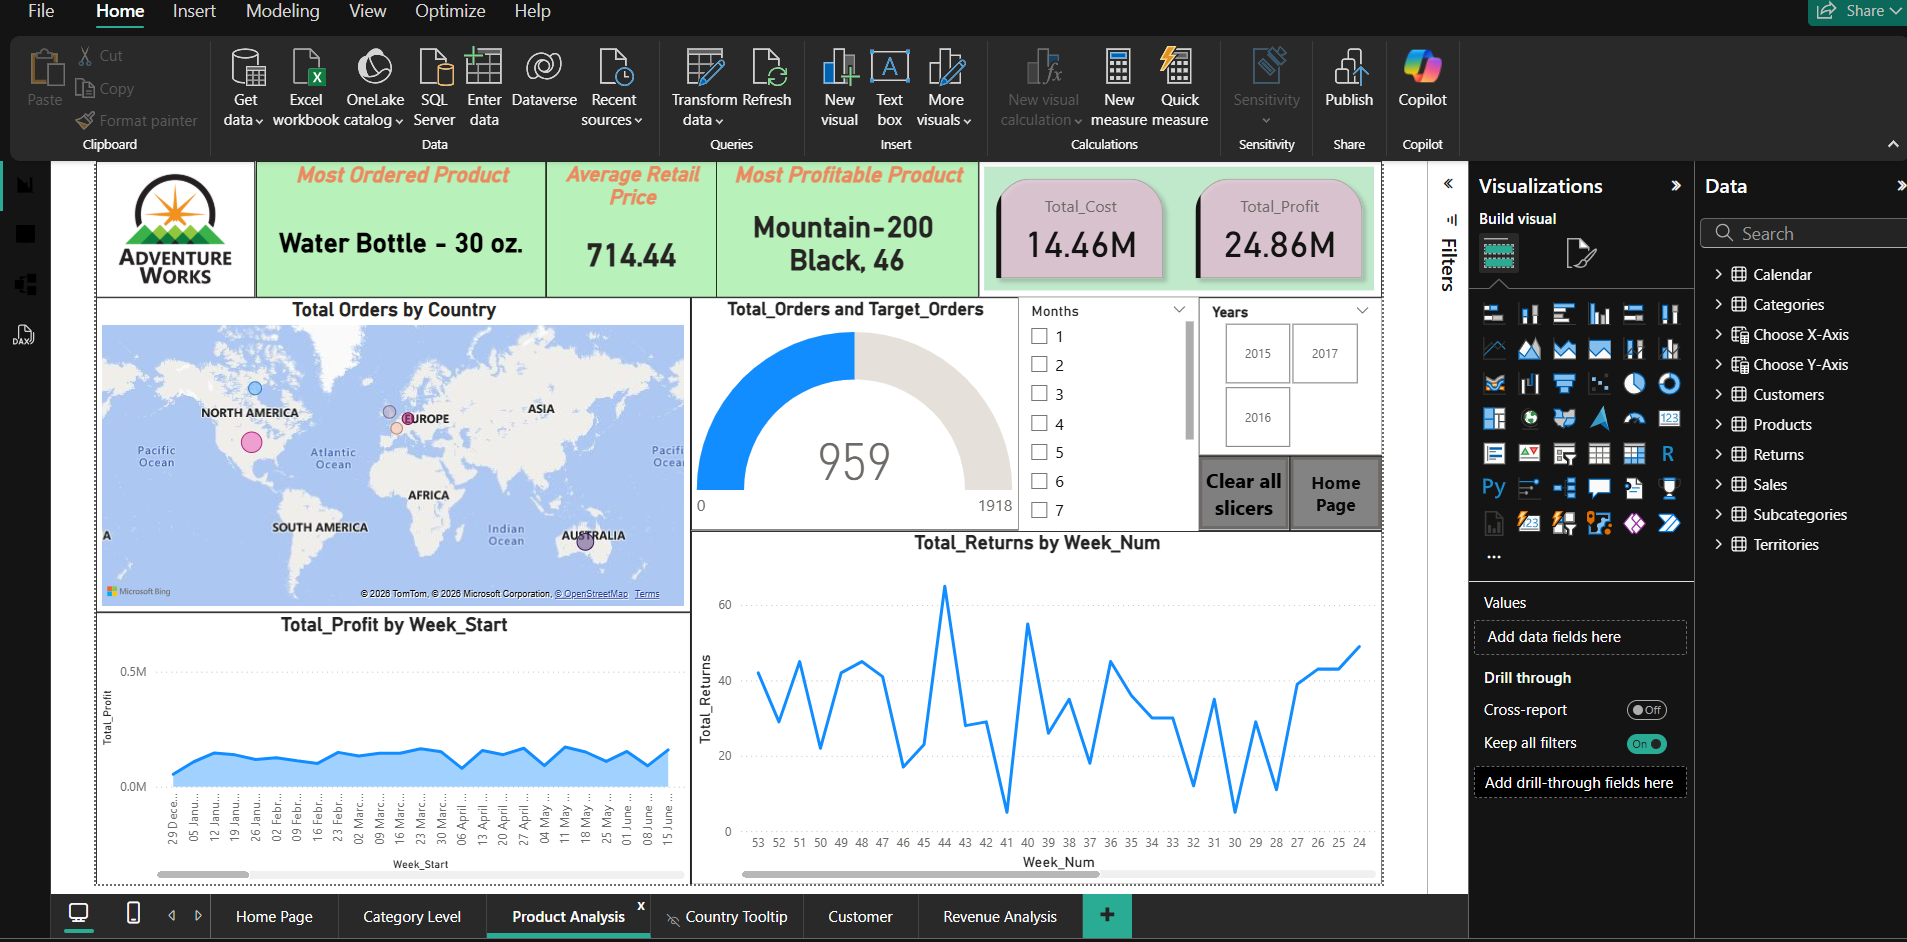

This screenshot's page, from the dashboard's own definition file:
{"tool":"powerbi","page":{"name":"Product Analysis","canvas":[1280,720],"ordinal":2},"visuals":[{"type":"image","box":[0,0,158.8,135.9],"z":0},{"type":"card","title":"Most Ordered Product","fields":{"Values":["Min(Products.ProductName)"]},"box":[158.8,0,289,135.9],"z":1000},{"type":"card","title":"Average Retail Price","fields":{"Values":["Avg(Products.ProductPrice)"]},"box":[447.7,0,170.2,135.9],"z":2000},{"type":"card","title":"Most Profitable Product","fields":{"Values":["Min(Products.ProductName)"]},"box":[616.5,0,261.8,135.9],"z":3000},{"type":"map","title":"Total Orders by Country","fields":{"Category":["Territories.Country"],"Size":["Sales.Total_Orders"]},"box":[0,135.9,592.2,313.3],"z":4000},{"type":"areaChart","fields":{"Y":["Sales.Profit"],"Category":["Sales.Week_Start"]},"box":[0,449.2,592.2,271.8],"z":5000},{"type":"lineChart","fields":{"Y":["Returns.Total_Returns"],"Category":["Returns.Week_Num"]},"box":[592.2,367.6,688.1,351.9],"z":6000},{"type":"gauge","fields":{"Y":["Sales.Total_Orders"],"TargetValue":["Sales.Target_Orders"]},"box":[592.2,135.9,326.2,231.7],"z":7000},{"type":"slicer","fields":{"Values":["Sales.Dates.Years"]},"box":[1097.2,135.9,183.1,157.4],"z":8000},{"type":"cardVisual","fields":{"Data":["Products.Total_Cost","Sales.Total_Profit"]},"box":[878.3,0,402,135.9],"z":9000},{"type":"actionButton","title":"Home Page","box":[1188.3,293.5,92.2,74],"z":10000},{"type":"actionButton","box":[1097.4,293.5,90.9,74],"z":11000},{"type":"slicer","fields":{"Values":["Sales.Dates.Months"]},"box":[918,136,179,232],"z":12000}]}

Visuals, with their boxes on the page's 1280x720 design canvas (x1, y1, x2, y2). These are canvas units, not pixel positions in the 1907x942 screenshot, which may show the page scaled, cropped or inside an application window:
image: 0, 0, 159, 136
"Most Ordered Product" card: 159, 0, 448, 136
"Average Retail Price" card: 448, 0, 618, 136
"Most Profitable Product" card: 616, 0, 878, 136
"Total Orders by Country" map: 0, 136, 592, 449
areaChart - Sales.Profit x Sales.Week_Start: 0, 449, 592, 721
lineChart - Returns.Total_Returns x Returns.Week_Num: 592, 368, 1280, 720
gauge - Sales.Total_Orders x Sales.Target_Orders: 592, 136, 918, 368
slicer - Sales.Dates.Years: 1097, 136, 1280, 293
cardVisual - Products.Total_Cost x Sales.Total_Profit: 878, 0, 1280, 136
"Home Page" actionButton: 1188, 294, 1280, 368
actionButton: 1097, 294, 1188, 368
slicer - Sales.Dates.Months: 918, 136, 1097, 368
